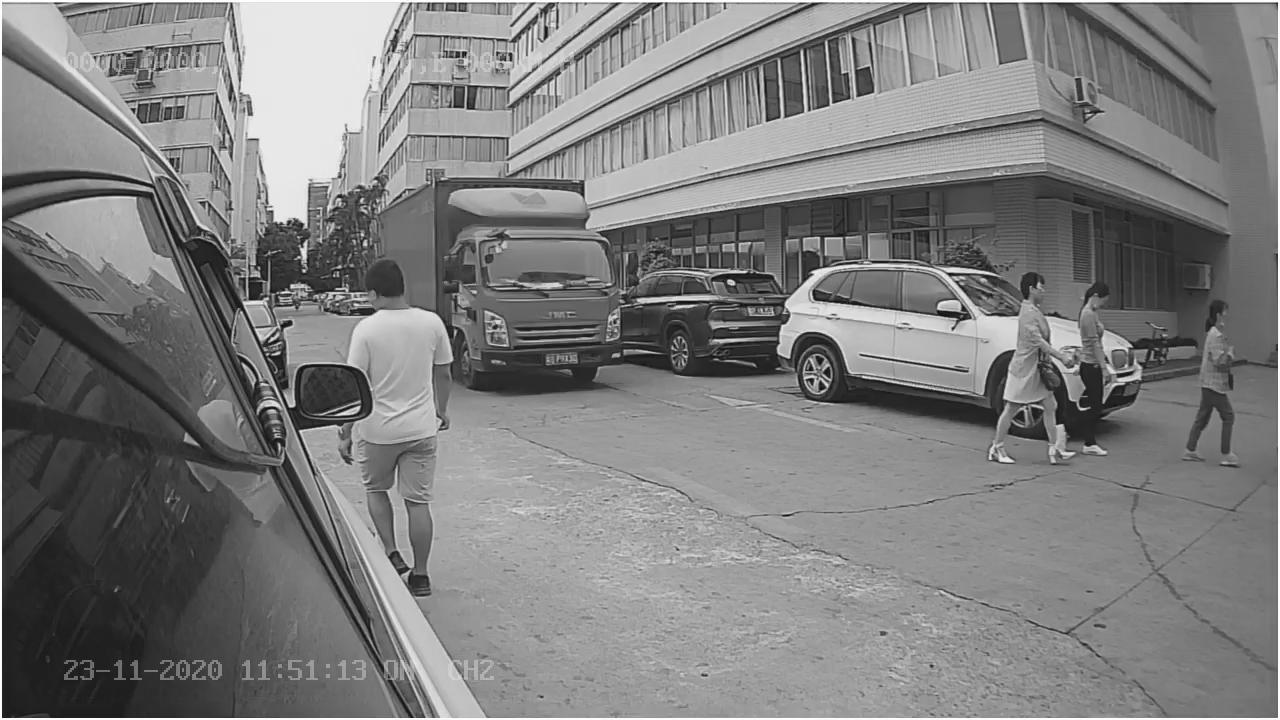person: (984, 268, 1077, 471), (344, 253, 456, 368), (1175, 294, 1245, 469)
